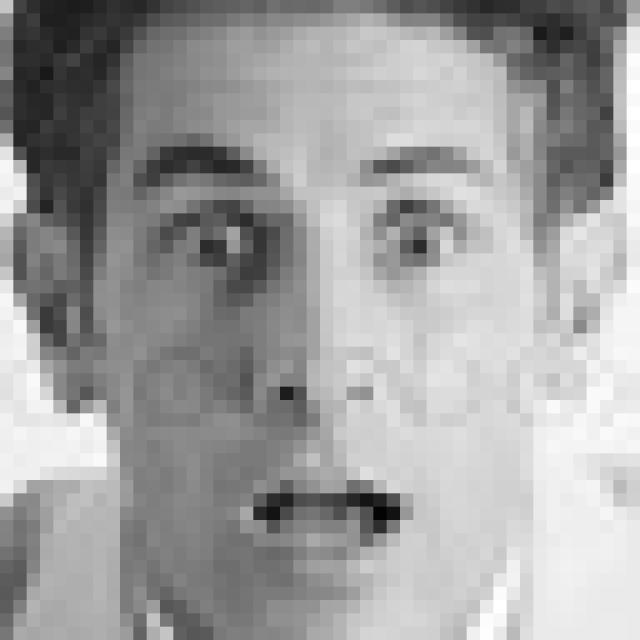surprise: (110, 116, 520, 585)
